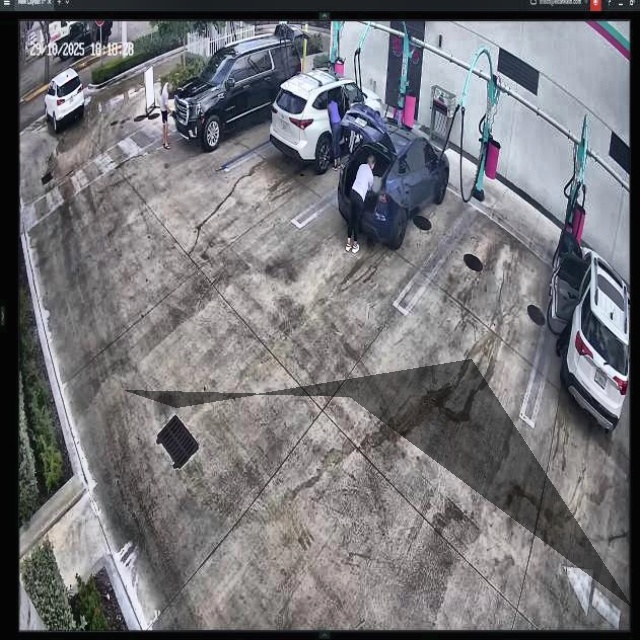Car: (337, 106, 450, 246), (272, 73, 382, 169)
